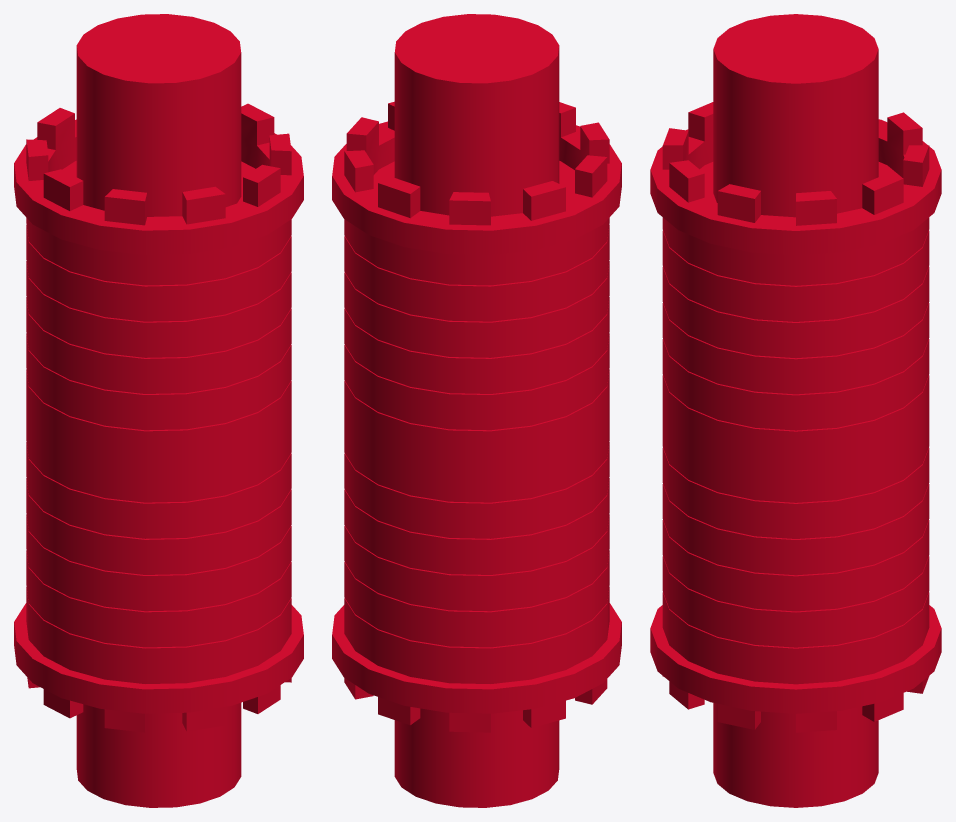
Rendered from Transformer.fbx.
3 renders of one model, left to right at view 1: azimuth 30°, elevation 25°; view 2: azimuth 150°, elevation 25°; view 3: azimuth 270°, elevation 25°, orthographic.
Parts seen in each view (by area): view 1: Cylinder; view 2: Cylinder; view 3: Cylinder.
Boxes of the visible parts, left/top/right/bottom form: Cylinder: left=14, top=14, right=303, bottom=807; Cylinder: left=332, top=14, right=621, bottom=807; Cylinder: left=650, top=14, right=941, bottom=807.
Size of the model in its own units: 219 by 600 by 219.
